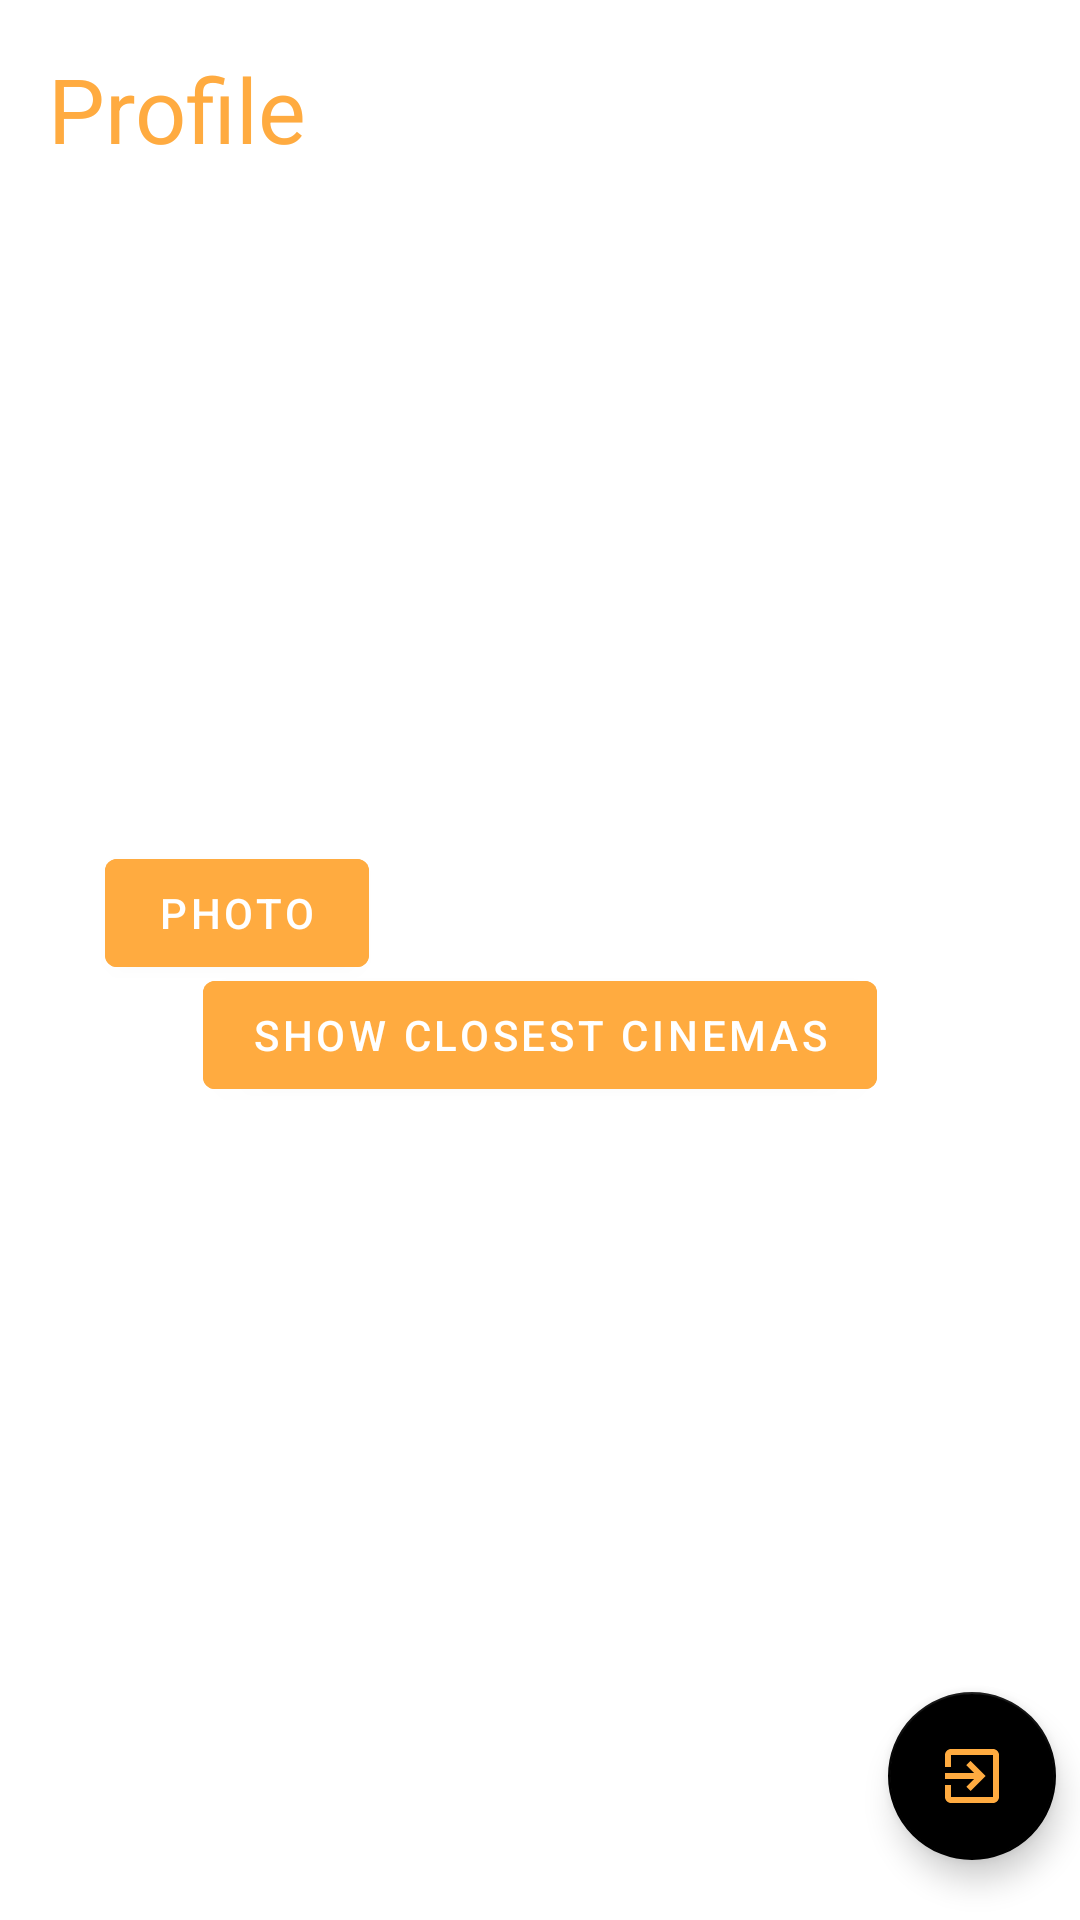

Named icons in this screenshot (1080px x 1920px) and their centers, [x,y]:
quit: [972,1776]
